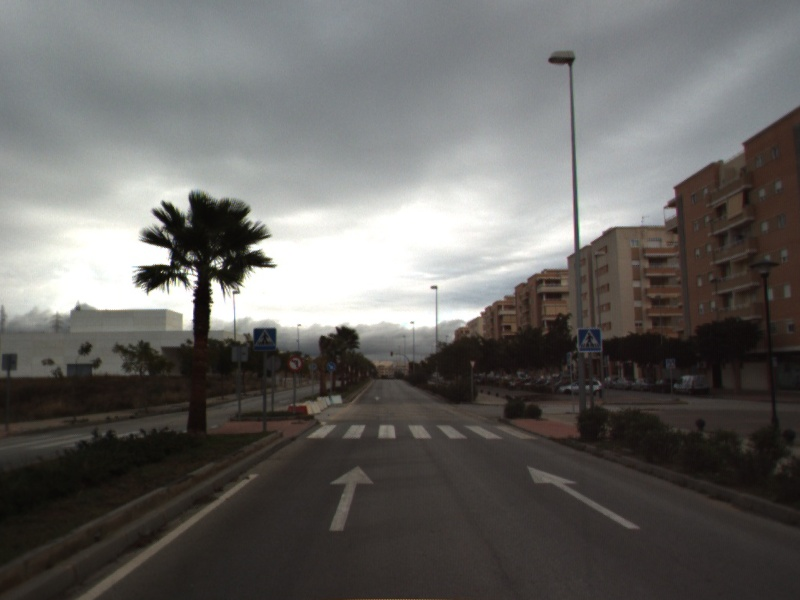STRAIGHT: (525, 464, 642, 531), (327, 463, 376, 533)
